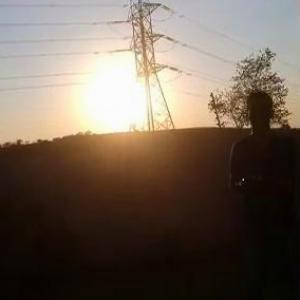follow: (223, 86, 299, 299)
